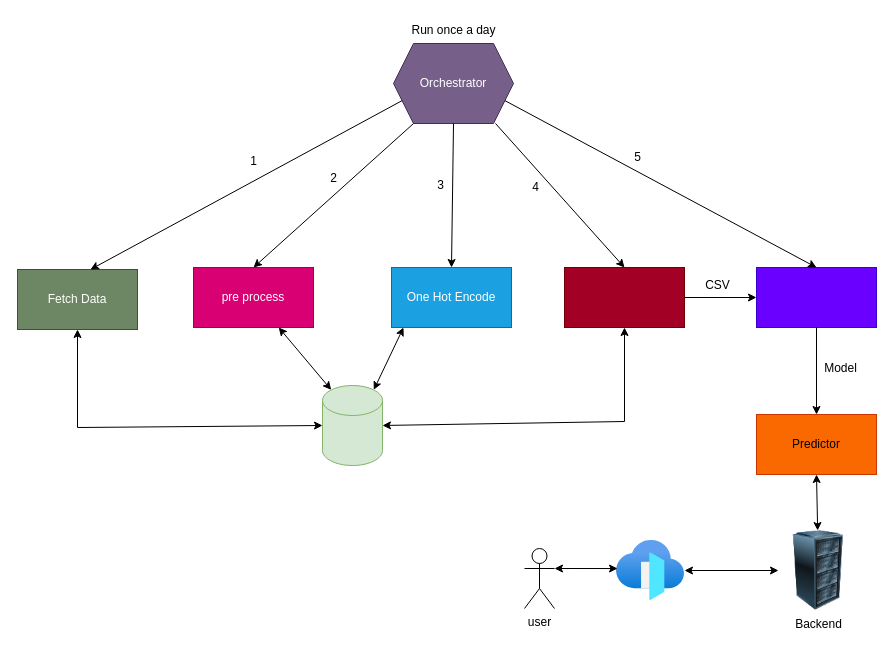
The diagram is 894 pixels wide and 648 high, and some of its shapes have lost their labels. Here are the shapes that lost their labels. From the top down, the centre of each, then its label:
At pixel 624 297: "ToCSV".
At pixel 816 297: "Regressor".
At pixel 352 425: "DB".
At pixel 650 570: "Front End".
